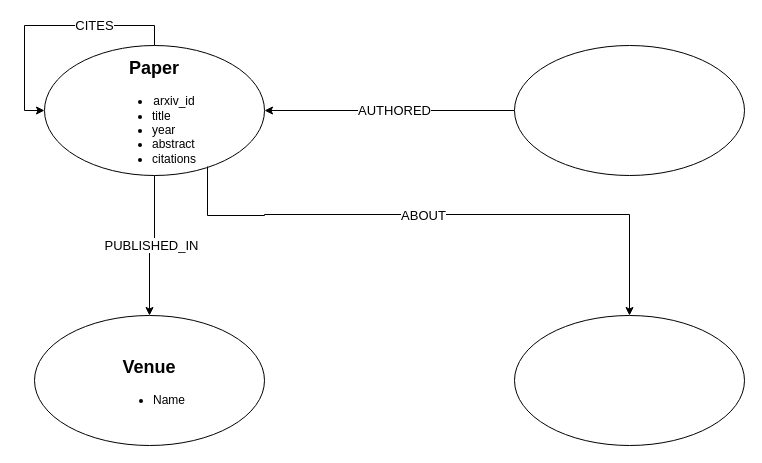
The diagram is 762 pixels wide and 463 high, and some of its shapes have lost their labels. Here are the shapes that lost their labels. From the top down, the centre of each, then its label:
(629,110): Author Name s2_id
(629,380): Topic Name
